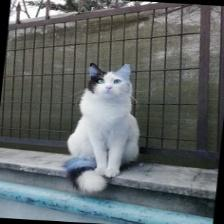kedo: (65, 63, 140, 192)
